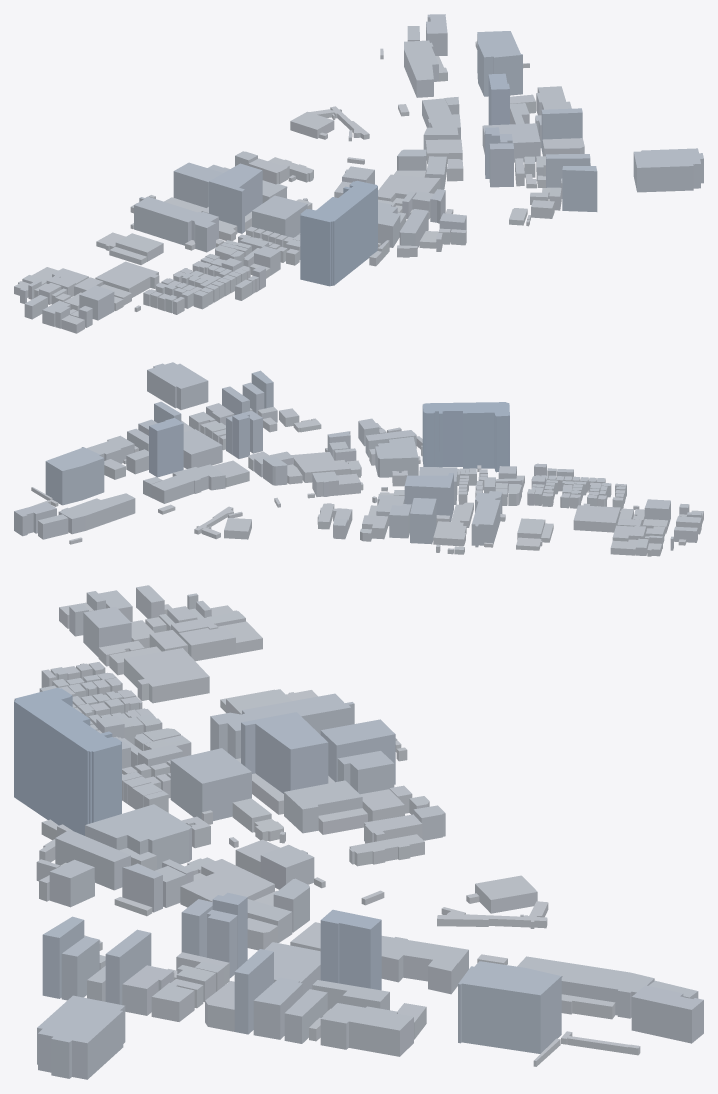
3 views of the same model, one above another, from view 1: azimuth 30°, elevation 25°; view 2: azimuth 150°, elevation 25°; view 3: azimuth 270°, elevation 25° (orthographic). The views are drawn at different scales.
Size of the model in its own units: 529 by 49.81 by 325.
